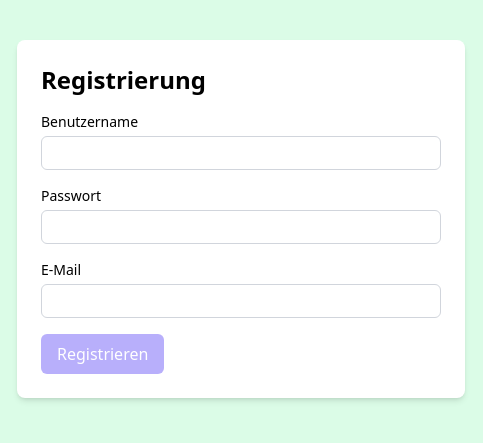
it: Registrierung mit React Hook Form + Zod › shows error messages for invalid values and keeps the button disabled
The width and height of the screenshot is (483, 443).
Type "ab" into the field labelled "Benutzername".
click(241, 153); type("ab")  # box [41,136,441,170]
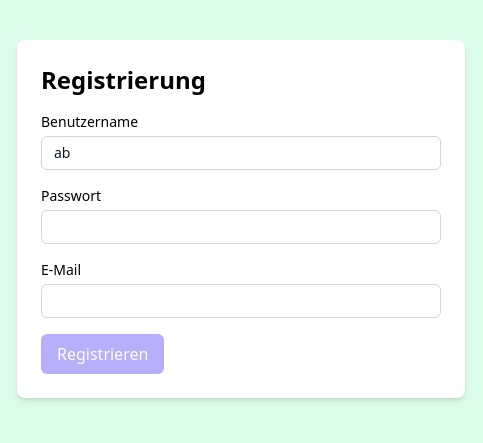
Type "kein-mail" into the field labelled "E-Mail".
click(241, 301); type("kein-mail")  # box [41,284,441,318]
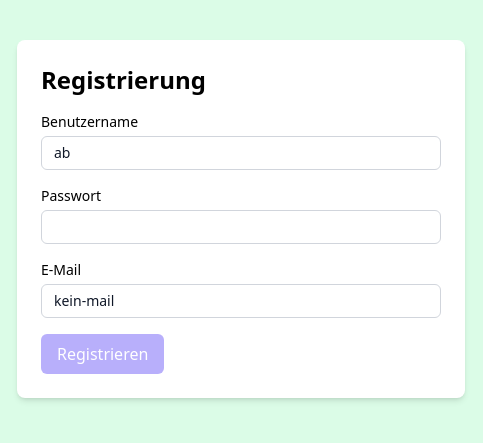
Leave the field labelled "E-Mail", box [41,284,441,318]
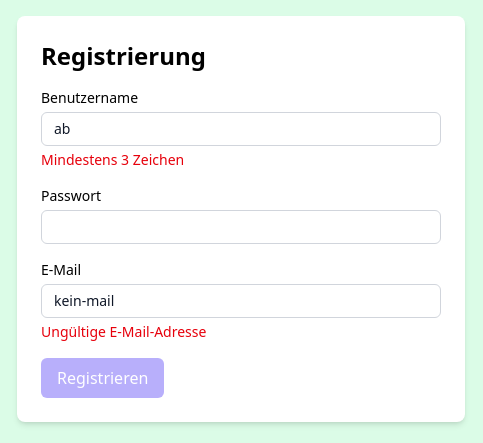
Expected: the button "Registrieren" is disabled, [41,358,164,398]
Now the text "Mindestens 3 Zeichen" is shown, box [41,150,184,169]
Now the text "Ungültige E-Mail-Adresse" is shown, box [41,322,206,341]
